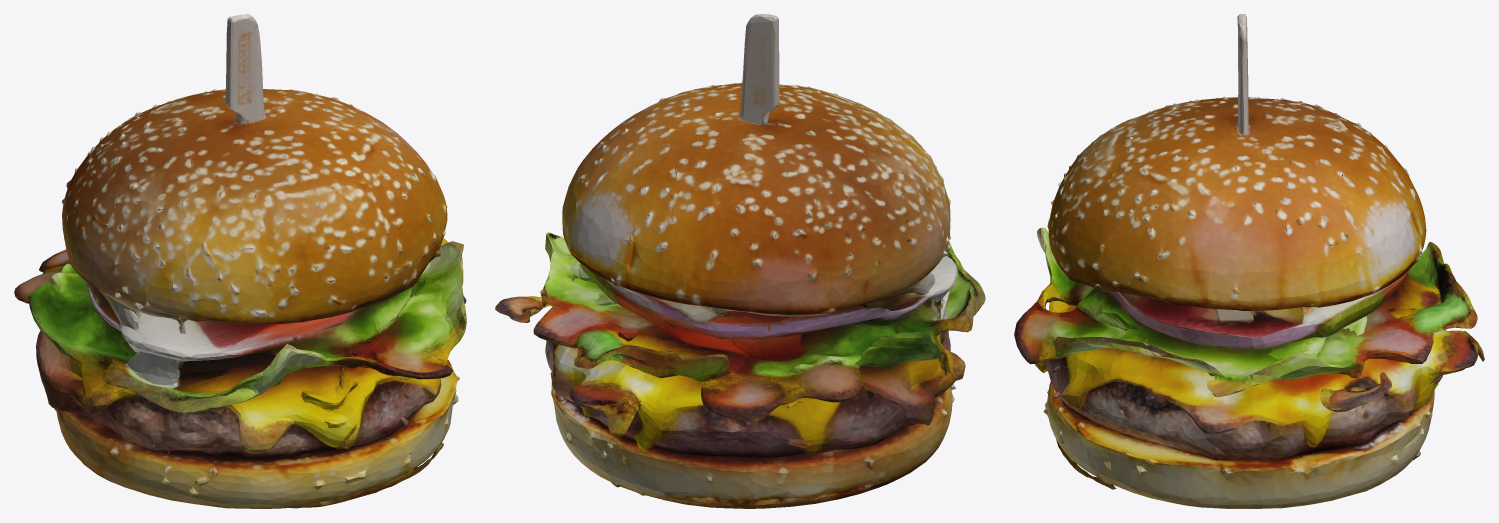
Rendered from cheeseburger.gltf.
3 views of the same model, side by side, from view 1: azimuth 30°, elevation 25°; view 2: azimuth 150°, elevation 25°; view 3: azimuth 270°, elevation 25° (orthographic). The views are drawn at different scales.
Parts seen in each view (by area): view 1: world; view 2: world; view 3: world.
Part boxes in pixels (x1,y1,x2,y2): world: [14, 14, 466, 508]; world: [495, 14, 985, 508]; world: [1014, 14, 1484, 508].
Bounding box in the file's own units: 0.8003 × 0.8148 × 0.84.
1 material, 1 textured.
